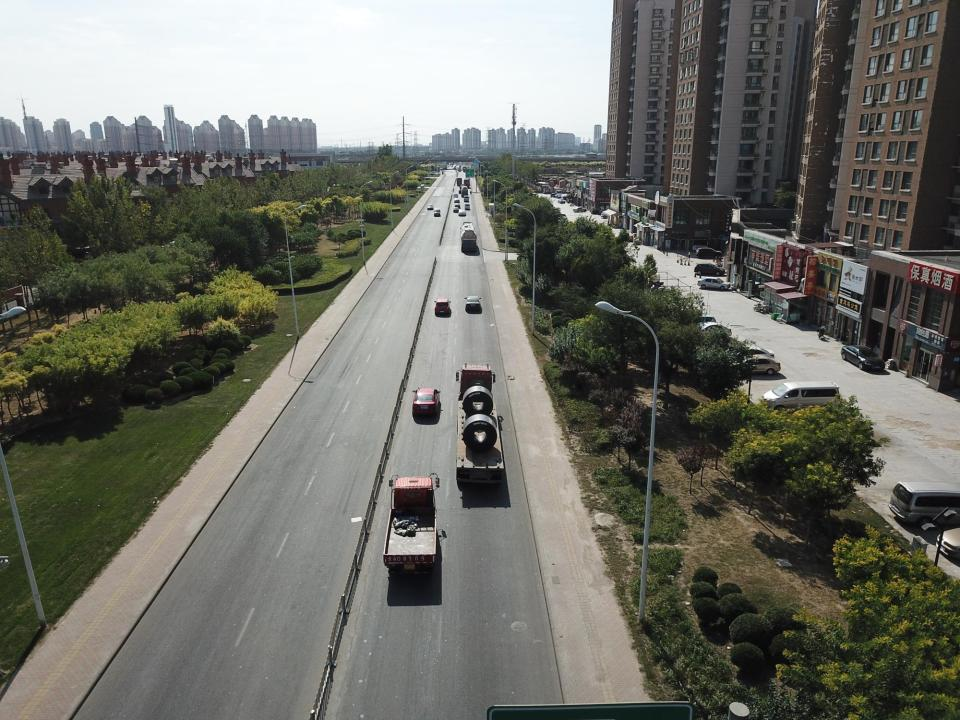bus: (530, 154, 539, 158)
car: (723, 354, 781, 376), (716, 346, 775, 366), (840, 345, 885, 371), (681, 322, 732, 340), (411, 387, 441, 417), (674, 314, 716, 332), (697, 276, 731, 290), (694, 262, 725, 276), (695, 247, 722, 258), (434, 298, 451, 315), (464, 296, 482, 312), (601, 211, 619, 219), (572, 207, 586, 212), (560, 195, 573, 199), (434, 208, 440, 216), (458, 210, 466, 216), (554, 194, 563, 199), (454, 202, 461, 208), (558, 198, 565, 204), (428, 204, 434, 210), (453, 207, 459, 213), (550, 192, 556, 198), (454, 198, 460, 203), (566, 183, 570, 188), (468, 156, 474, 159), (338, 158, 344, 161), (482, 156, 488, 158), (343, 158, 349, 160), (447, 165, 449, 168), (450, 165, 453, 167), (460, 168, 462, 171), (457, 168, 459, 171)
truck: (382, 472, 440, 575), (456, 363, 504, 487), (464, 178, 470, 188), (456, 178, 462, 186), (555, 190, 562, 195), (458, 167, 461, 172)
van: (888, 480, 960, 528), (761, 380, 840, 415), (464, 203, 470, 210), (453, 193, 459, 199), (464, 195, 469, 202)
